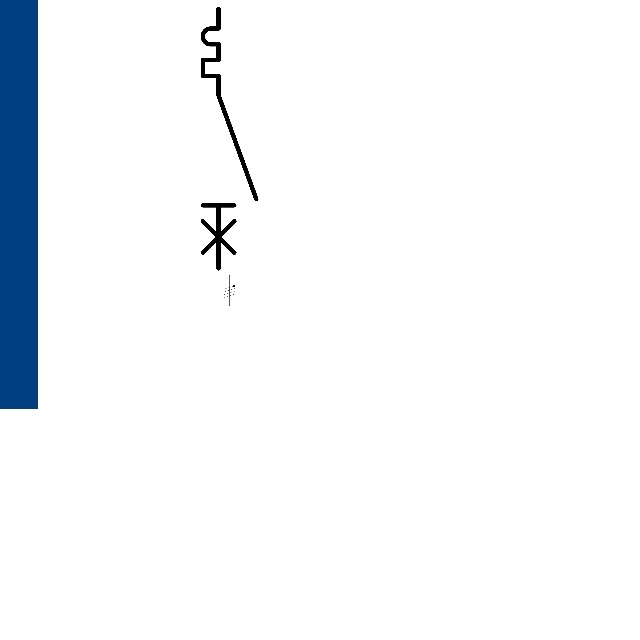interruptor_termomagnetico: (196, 2, 263, 275)
